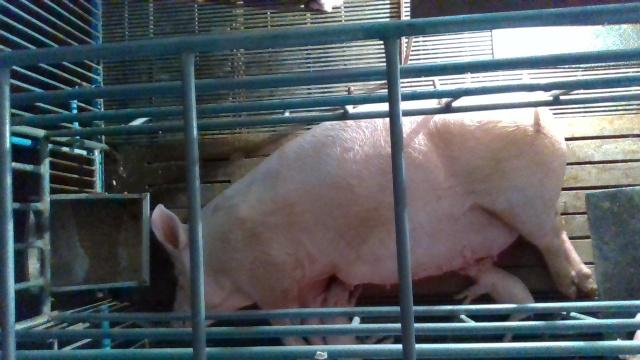piglet: (454, 257, 538, 342), (320, 282, 395, 345)
sow-sleep-lactate: (151, 93, 598, 348)
